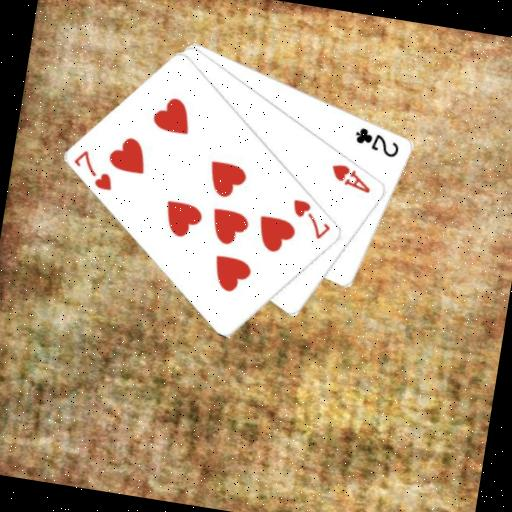2C: (350, 123, 404, 159)
7H: (66, 144, 119, 193), (285, 195, 336, 243)
AH: (325, 158, 375, 195)
